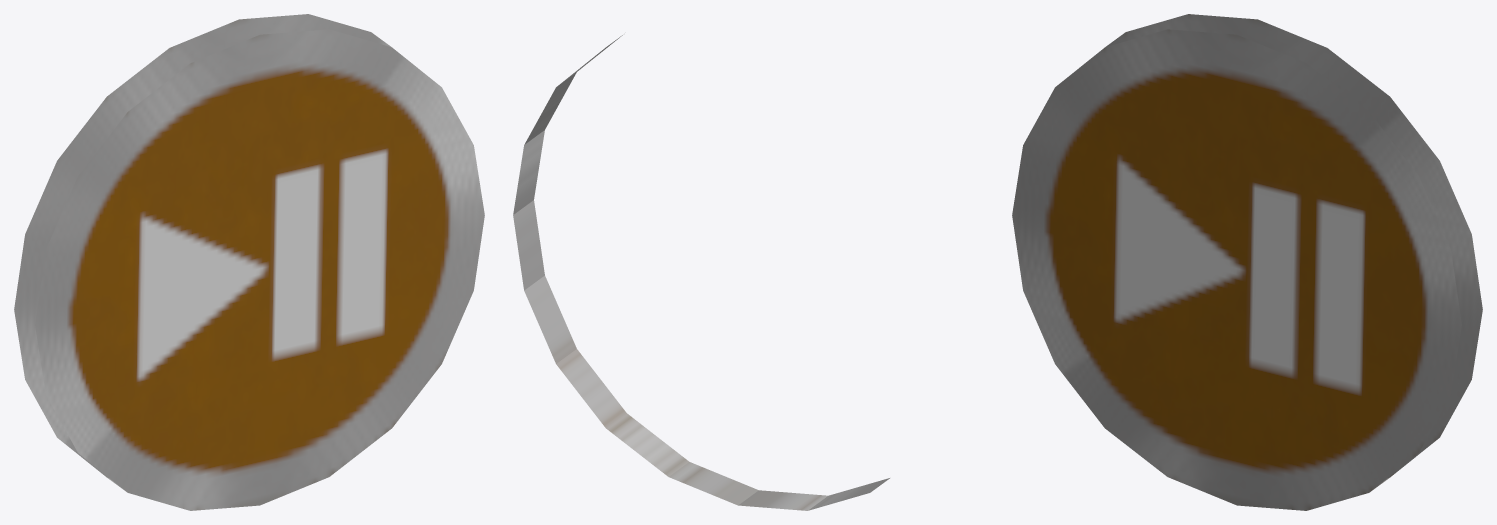
File: BotonPlayPauseEXPORT.glb
3 renders of one model, left to right at view 1: azimuth 30°, elevation 25°; view 2: azimuth 150°, elevation 25°; view 3: azimuth 330°, elevation 25°, orthographic.
Visible parts, largest first — view 1: PausePlay1; view 2: PausePlay1; view 3: PausePlay1.
Part boxes in pixels (x1,y1,x2,y2): PausePlay1: (14,14,484,510); PausePlay1: (513,35,889,510); PausePlay1: (1012,14,1482,510).
Bounding box in the file's own units: 0.881 × 0.881 × 0.0709.
1 material, 1 textured.
